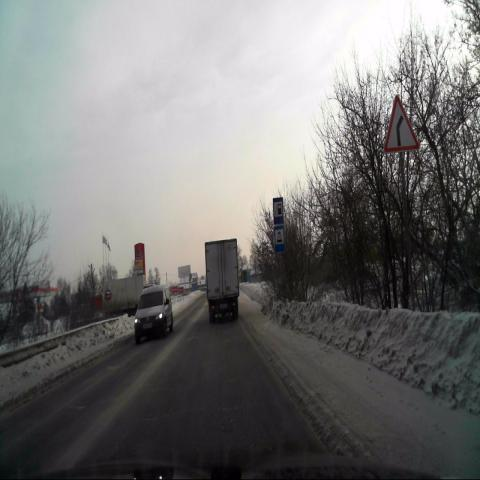1_11_1: (384, 94, 420, 152)
7_5: (274, 226, 286, 253)
